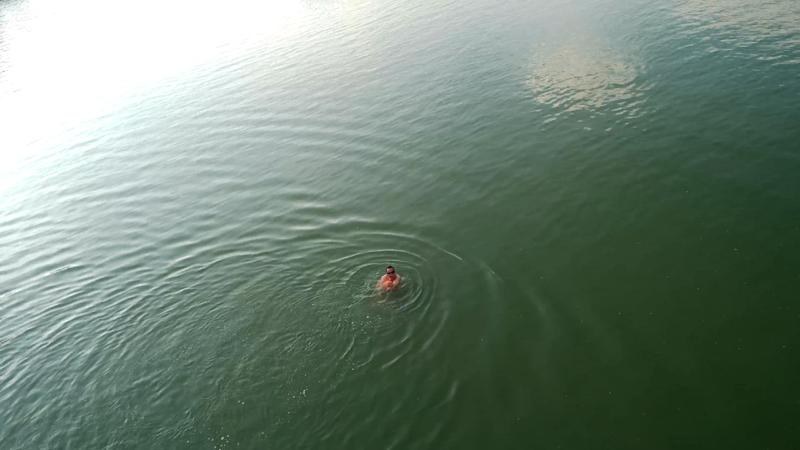swimmers: (379, 264, 401, 294)
